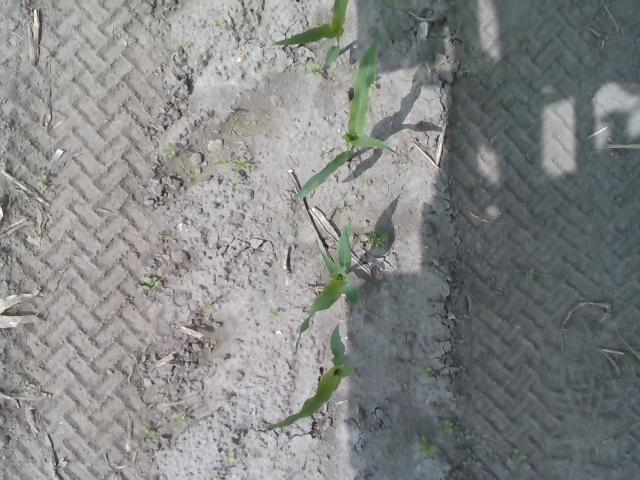Maize: (294, 21, 397, 200), (259, 321, 365, 434), (293, 221, 362, 355), (274, 0, 349, 64)
Weeds: (216, 155, 252, 171), (418, 435, 439, 461), (136, 274, 160, 294), (368, 231, 390, 250), (513, 266, 537, 280), (442, 420, 460, 438), (512, 454, 528, 464), (162, 144, 175, 156), (176, 412, 187, 426), (418, 366, 433, 376), (308, 64, 320, 76), (500, 96, 513, 107), (22, 383, 35, 391), (448, 223, 457, 232), (144, 426, 151, 434), (277, 44, 288, 48)
